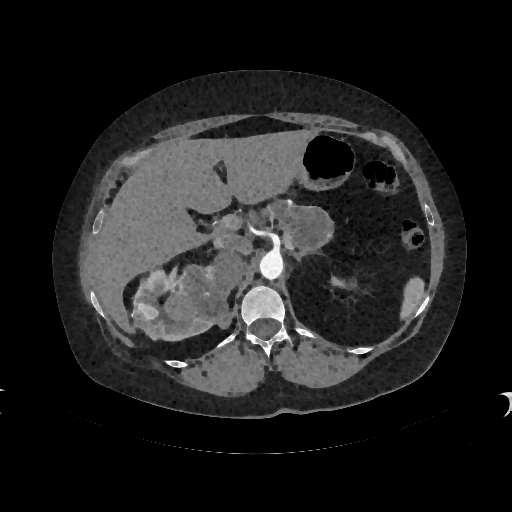Lesion: (132, 297, 163, 325)
